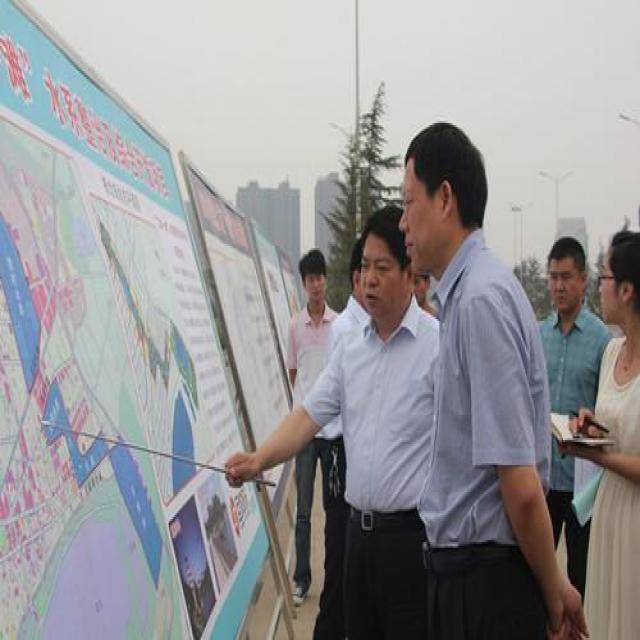no-helmet: (399, 119, 492, 275), (353, 209, 411, 325), (600, 223, 639, 329), (544, 231, 590, 319), (297, 244, 331, 317)
